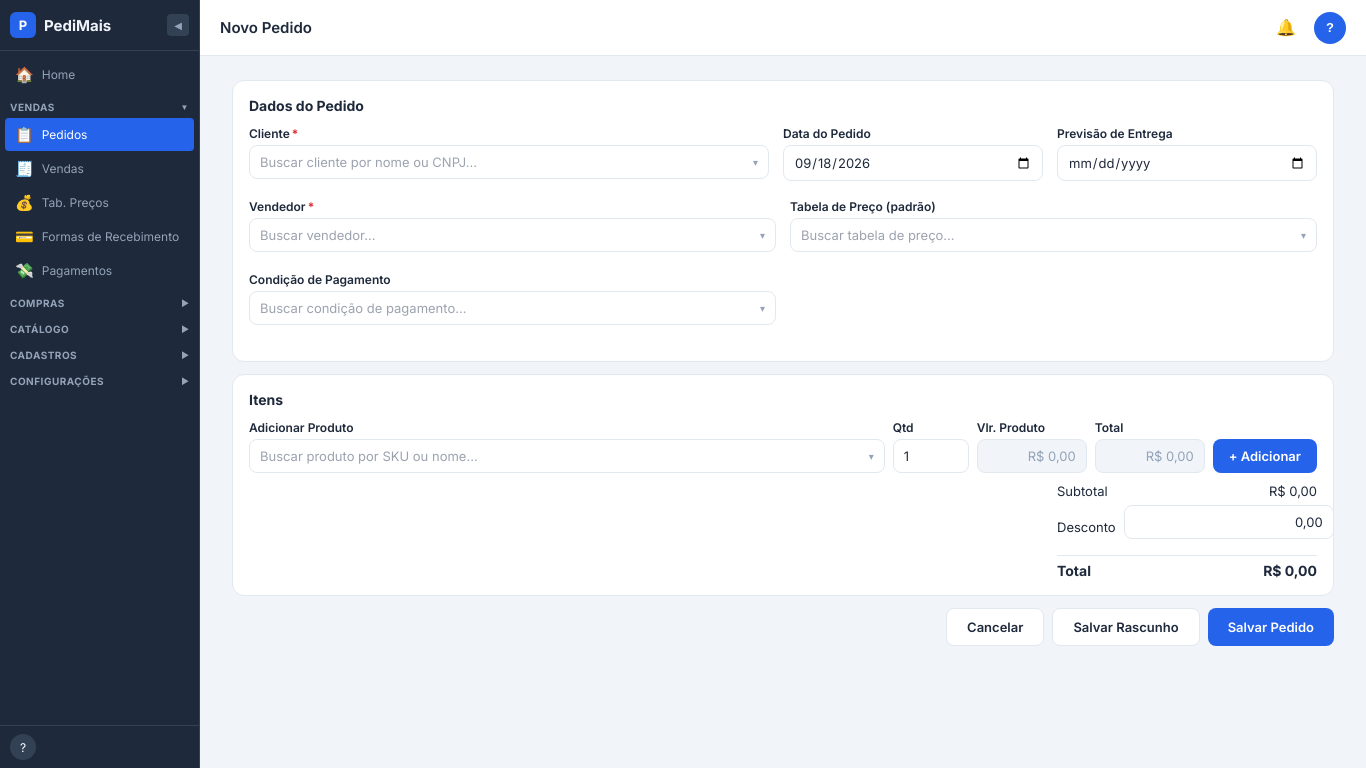
Test: SalesOrderFormView › loads the salesReps list for the salesperson select
The image size is (1366, 768).
Click the element with test id "salesperson" at (512, 235), box x1=249 y1=218 x2=776 y2=252
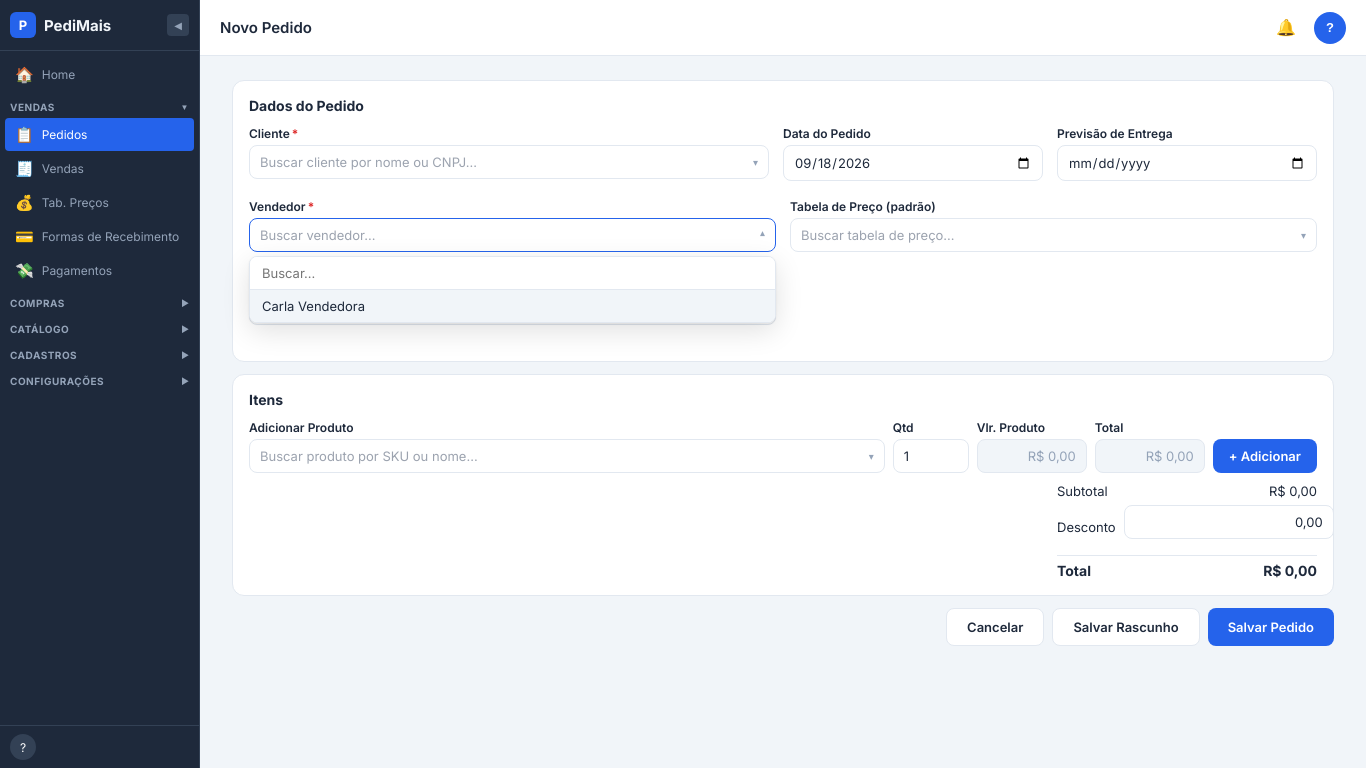
Now the text "Carla Vendedora" is shown, box x1=262 y1=298 x2=365 y2=314
